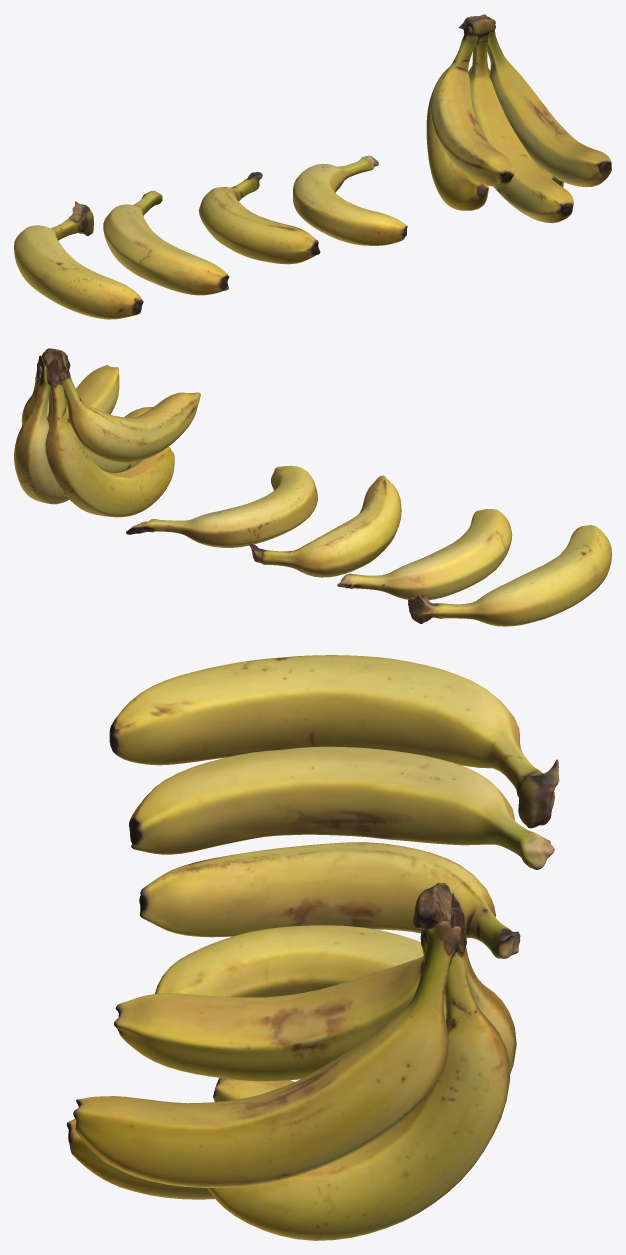
The model's file is bananas.glb.
3 views of the same model, one above another, from view 1: azimuth 30°, elevation 25°; view 2: azimuth 150°, elevation 25°; view 3: azimuth 270°, elevation 25° (orthographic). The views are drawn at different scales.
Visible parts, largest first — view 1: bananas_bunch, bananas_d, bananas_c, bananas_a, bananas_b; view 2: bananas_bunch, bananas_d, bananas_c, bananas_a, bananas_b; view 3: bananas_bunch, bananas_d, bananas_c, bananas_b, bananas_a.
Boxes of the visible parts, box(x1,y1,x2,y2) form: bananas_bunch: box(426, 14, 611, 223); bananas_d: box(14, 201, 143, 319); bananas_c: box(103, 190, 229, 295); bananas_a: box(293, 155, 407, 245); bananas_b: box(198, 172, 320, 264); bananas_bunch: box(14, 348, 200, 517); bananas_d: box(408, 525, 611, 626); bananas_c: box(337, 509, 512, 600); bananas_a: box(126, 465, 317, 547); bananas_b: box(249, 475, 401, 577); bananas_bunch: box(67, 882, 516, 1240); bananas_d: box(109, 655, 559, 828); bananas_c: box(129, 746, 554, 869); bananas_b: box(139, 842, 520, 958); bananas_a: box(155, 925, 423, 997).
Bounding box in the file's own units: 0.6 × 0.1788 × 0.2441.
Materials: 1 (1 with a texture image).
